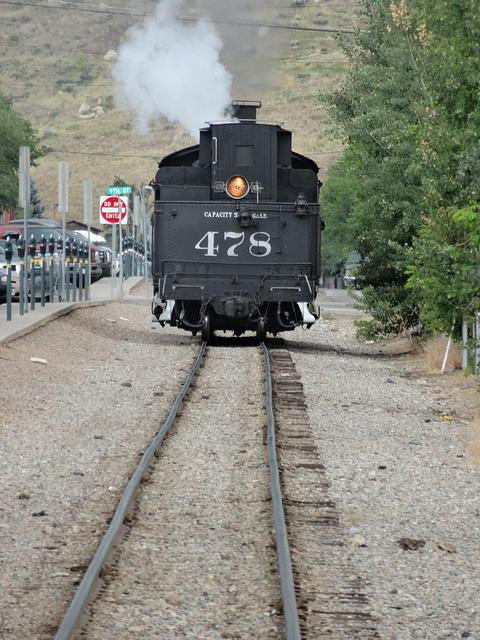Train: (150, 97, 327, 337)
